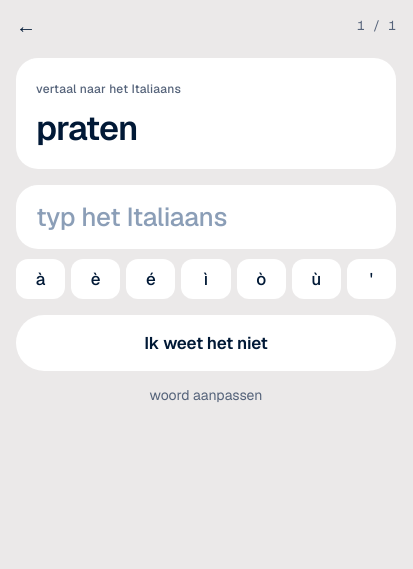
Study – foute antwoorden worden niet overgeslagen › "Toch goed rekenen" rekent het antwoord goed en gaat door (zonder het woord te wijzigen)
In the field with placeholder "typ het Italiaans": (206, 217) x1=16 y1=185 x2=396 y2=249, type "fout"
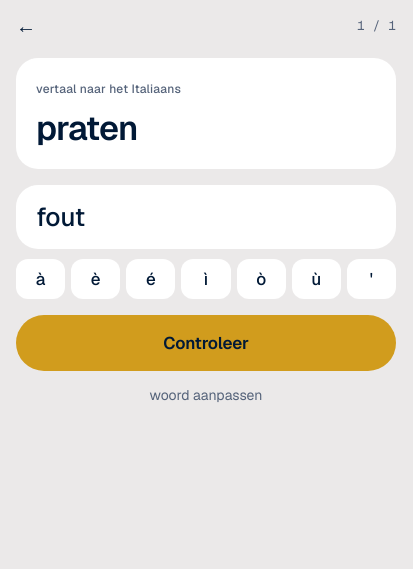
Click the button "Controleer": (206, 343) x1=16 y1=315 x2=396 y2=371
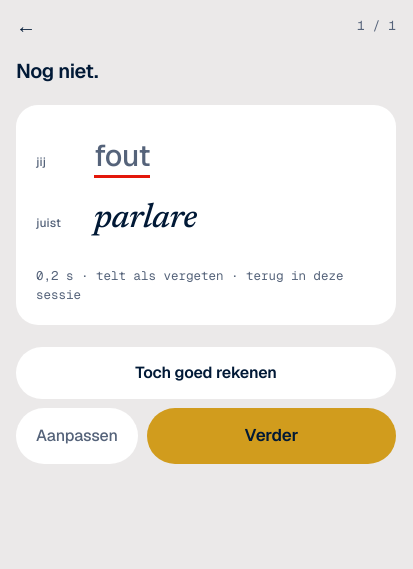
Click the button "Toch goed rekenen": (206, 372) x1=16 y1=346 x2=396 y2=398
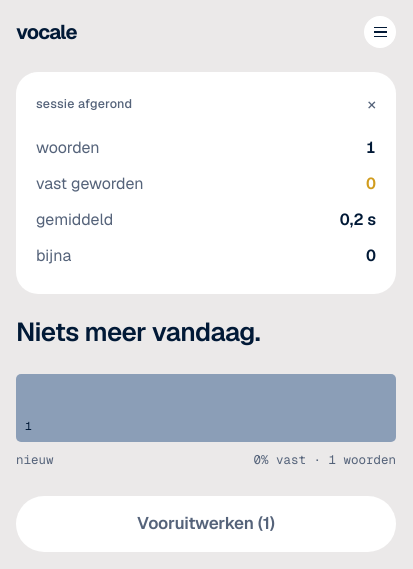
Result: the text "sessie afgerond" is shown at x1=36 y1=95 x2=132 y2=114
